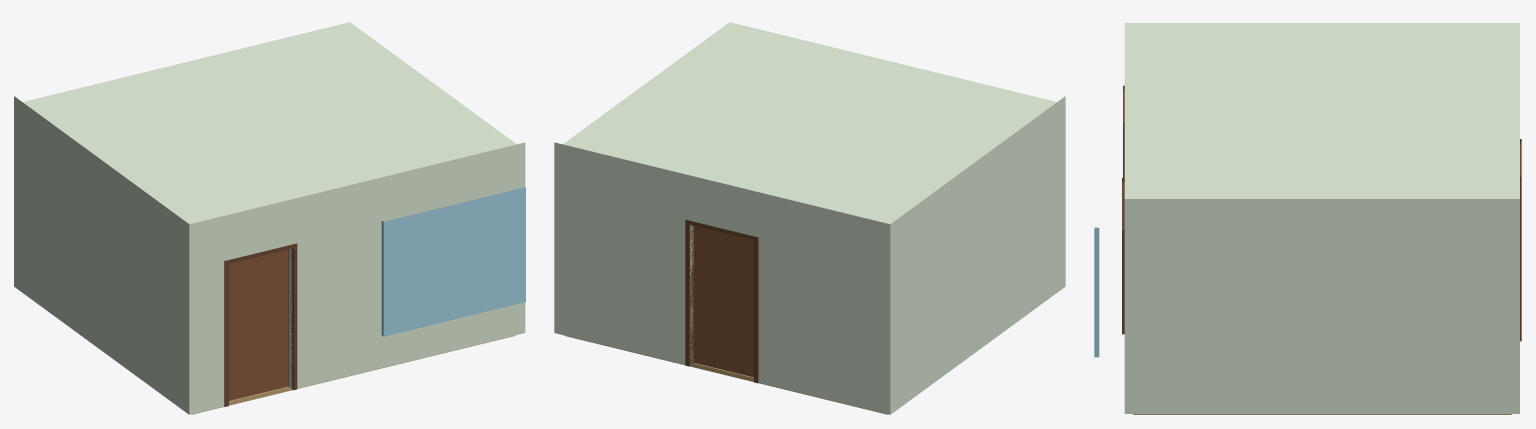
The model's file is room_bed3.glb.
3 views of the same model, side by side, from view 1: azimuth 30°, elevation 25°; view 2: azimuth 150°, elevation 25°; view 3: azimuth 270°, elevation 25° (orthographic). The views are drawn at different scales.
Parts seen in each view (by area): view 1: WALLS, CEILING, VIEW_window_N, DOOR_bath, FRAMES, FLOOR_visible; view 2: WALLS, CEILING, DOOR_study, FRAMES, FLOOR_visible; view 3: WALLS, CEILING, FRAMES, VIEW_window_N.
Part boxes in pixels (x1,y1,x2,y2): WALLS: (14, 104, 525, 414); CEILING: (14, 22, 525, 232); VIEW_window_N: (381, 187, 525, 336); DOOR_bath: (229, 249, 288, 400); FRAMES: (224, 243, 297, 406); FLOOR_visible: (192, 335, 514, 414); WALLS: (554, 104, 1065, 414); CEILING: (554, 22, 1065, 232); DOOR_study: (694, 226, 753, 377); FRAMES: (685, 219, 758, 383); FLOOR_visible: (565, 335, 887, 414); WALLS: (1124, 208, 1519, 413); CEILING: (1124, 23, 1519, 207); FRAMES: (1122, 85, 1521, 341); VIEW_window_N: (1094, 227, 1099, 357).
Bounding box in the file's own units: 5.2 × 2.88 × 5.08.
